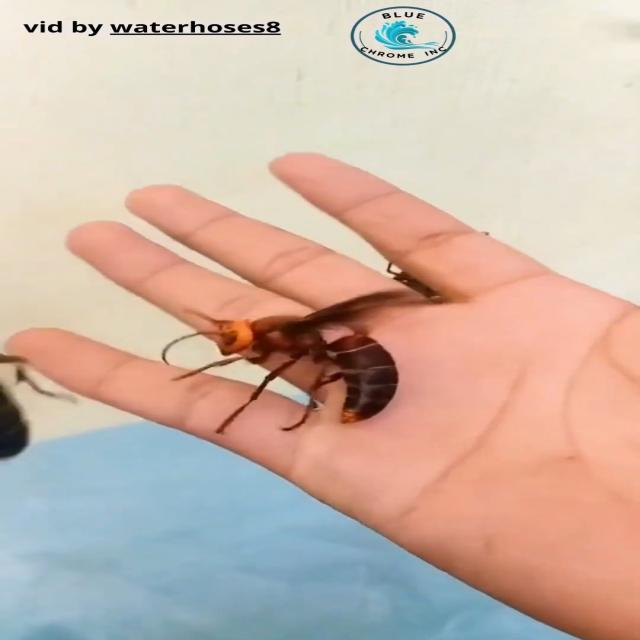Hornets: (156, 288, 424, 435)
